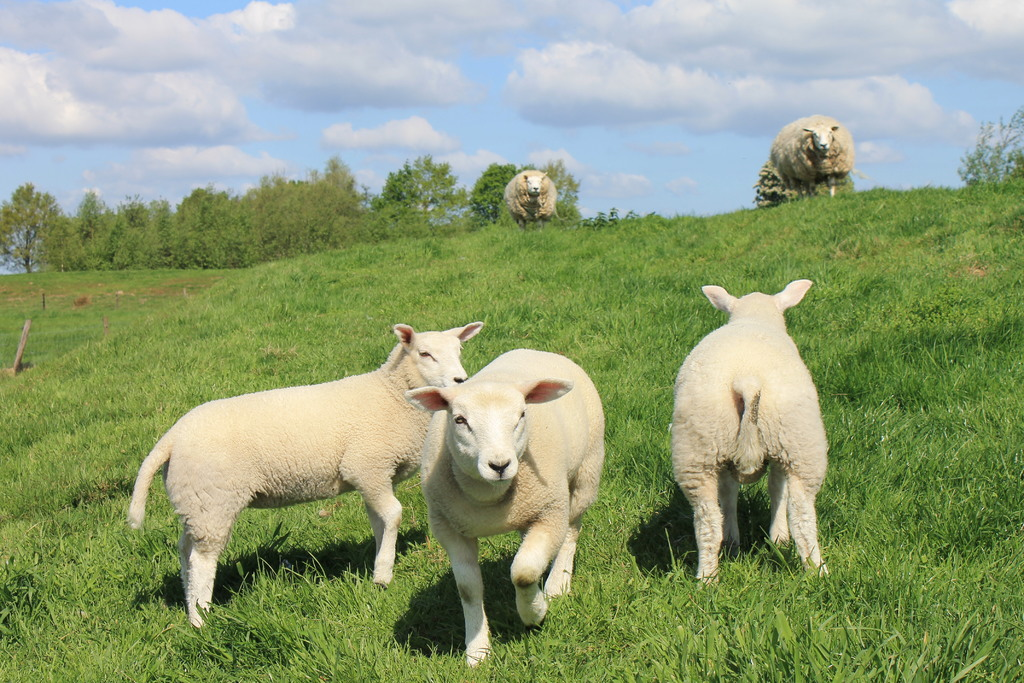sheep: (503, 169, 560, 224)
